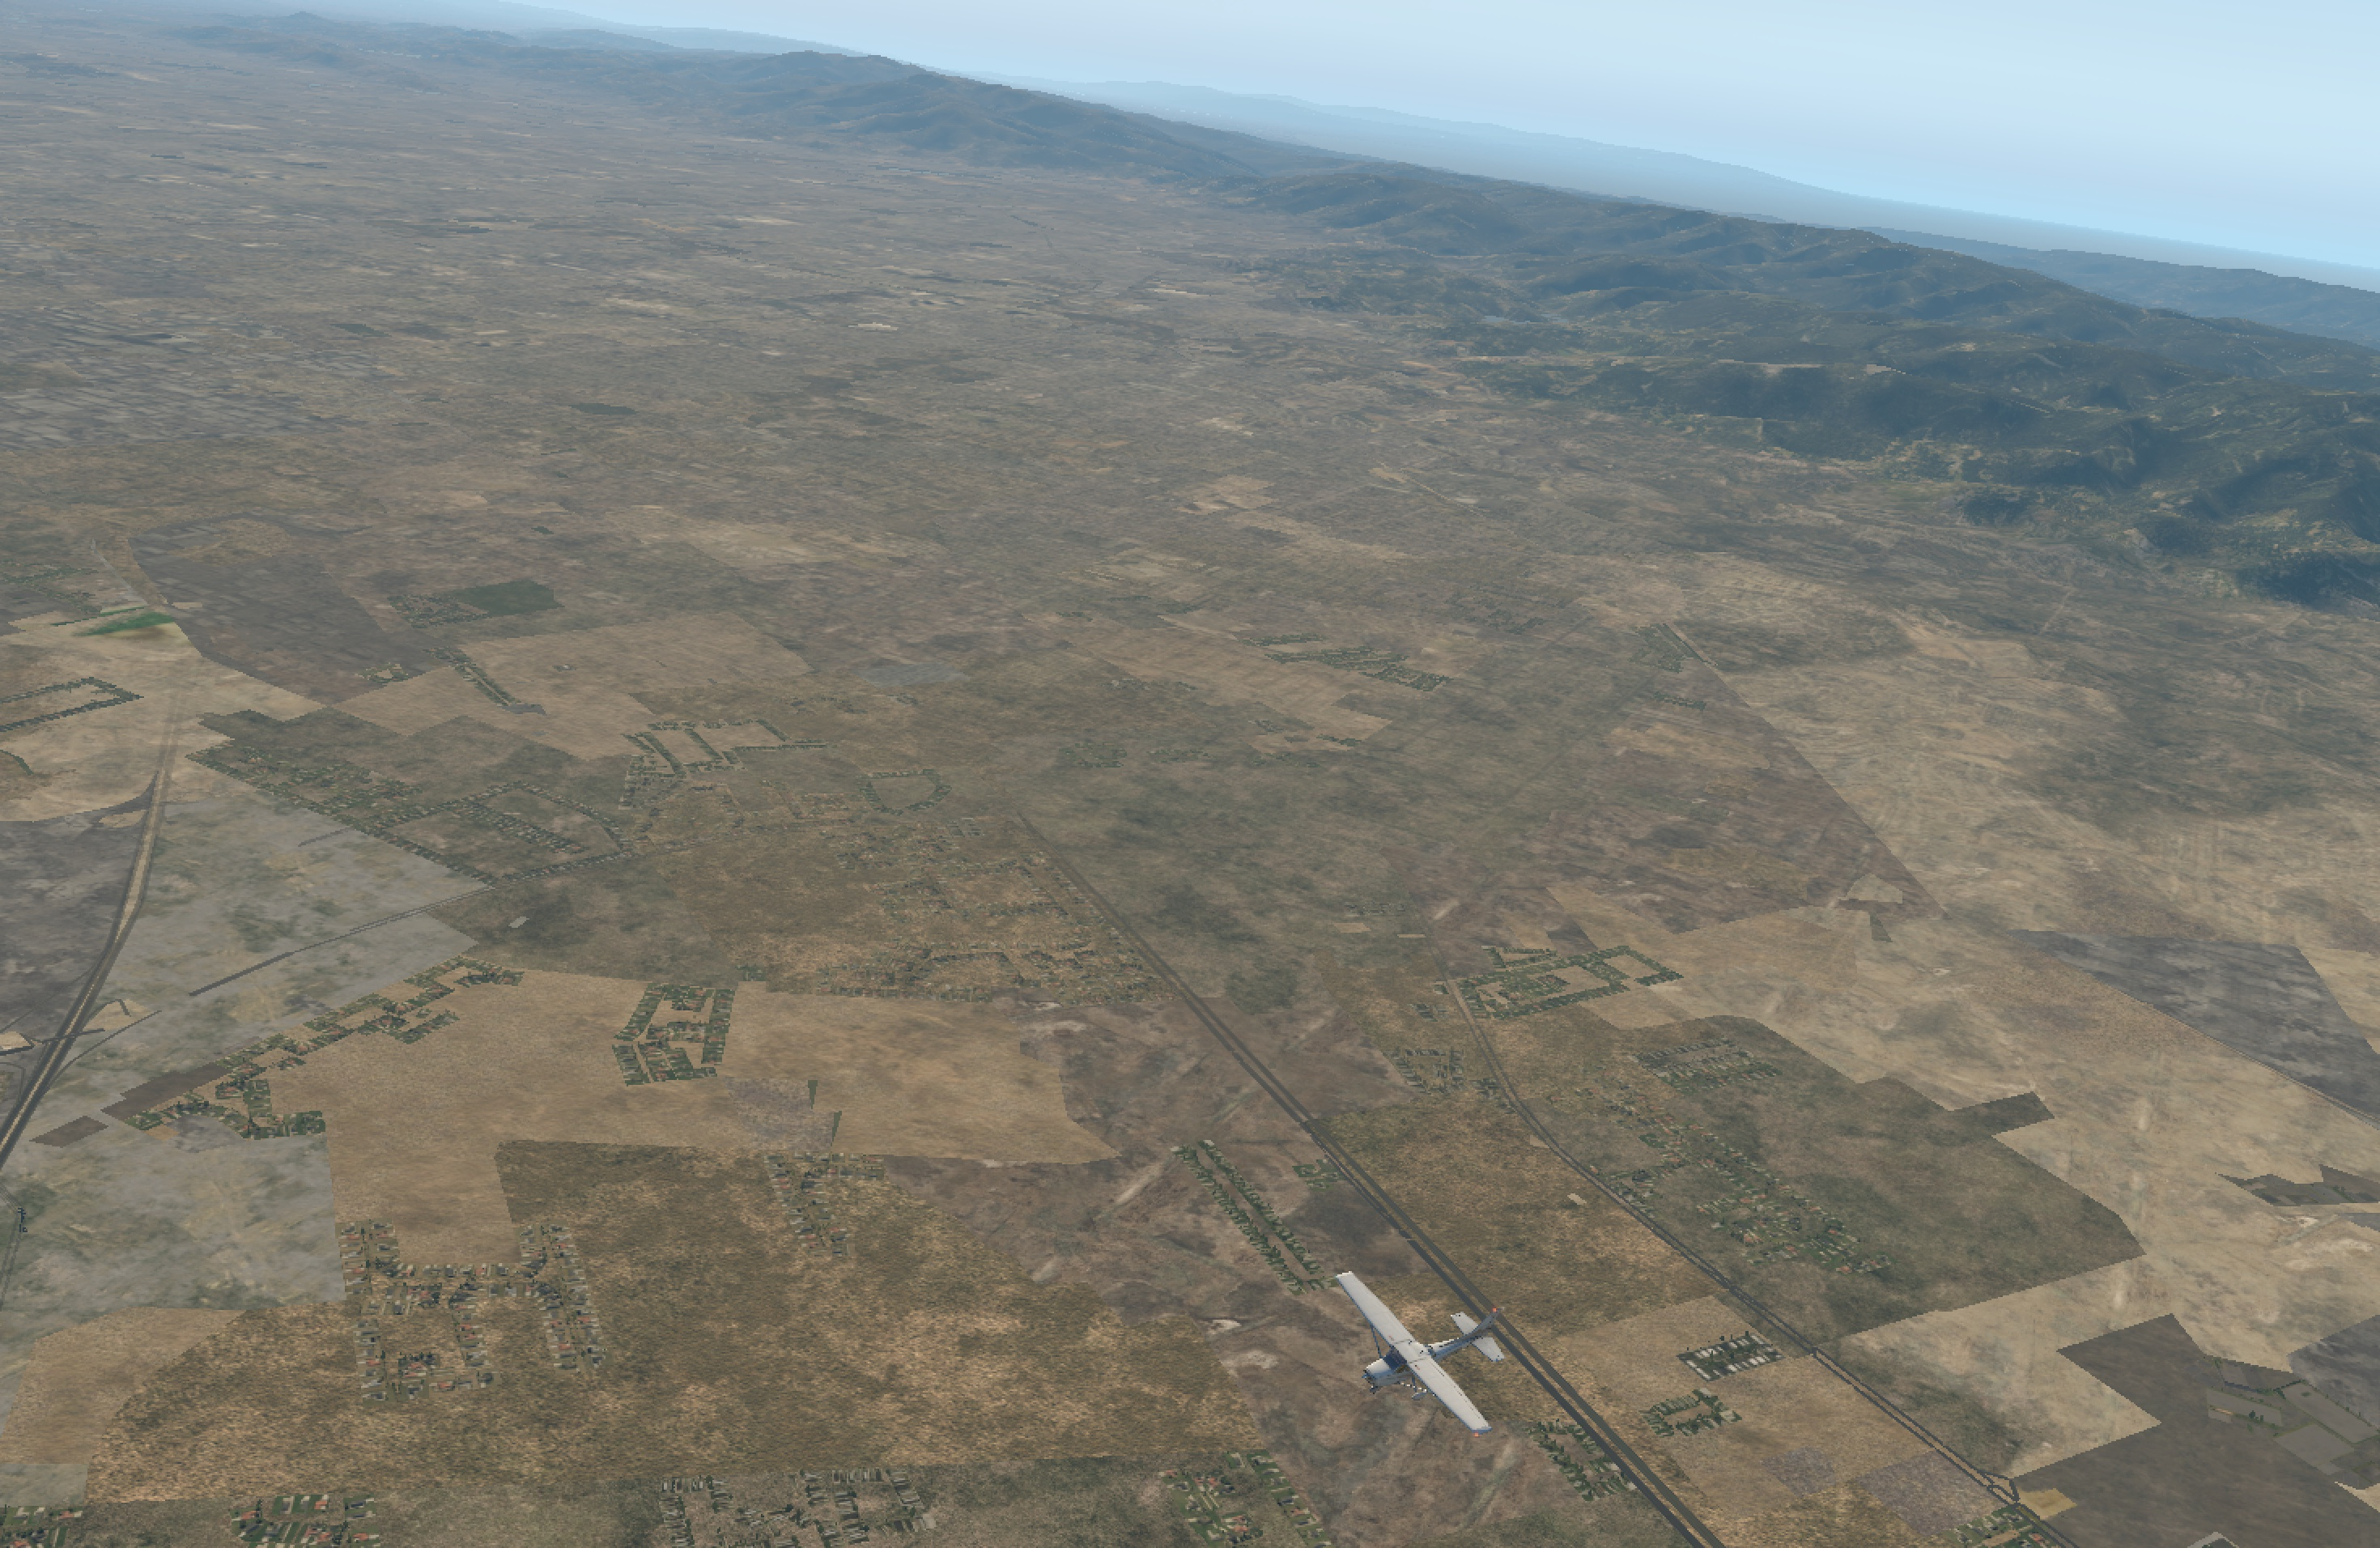aircraft: (1322, 1333, 1483, 1394)
